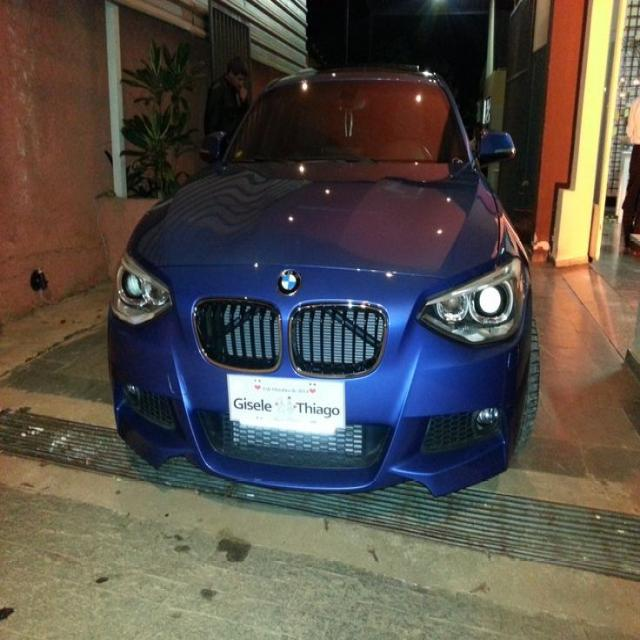Placas: (228, 371, 345, 431)
